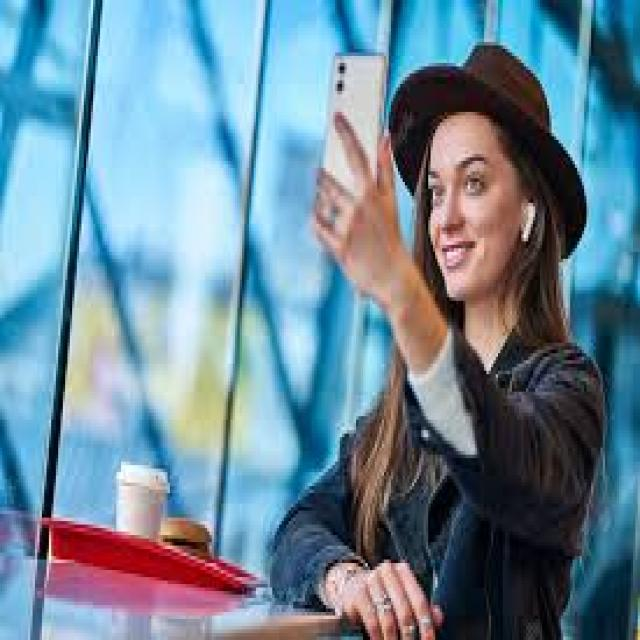hat: (393, 15, 590, 211)
